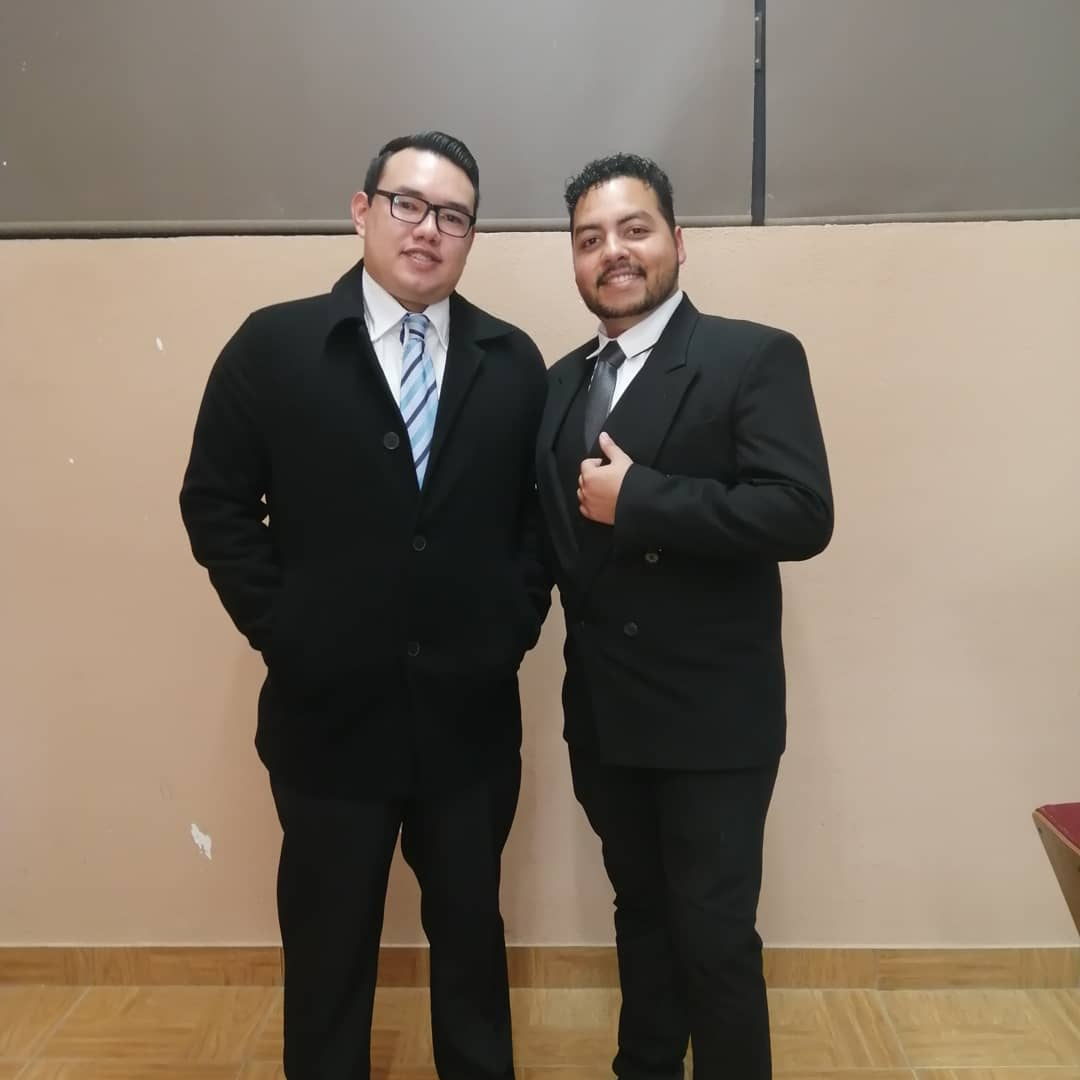Yoshi: (503, 127, 857, 602)
